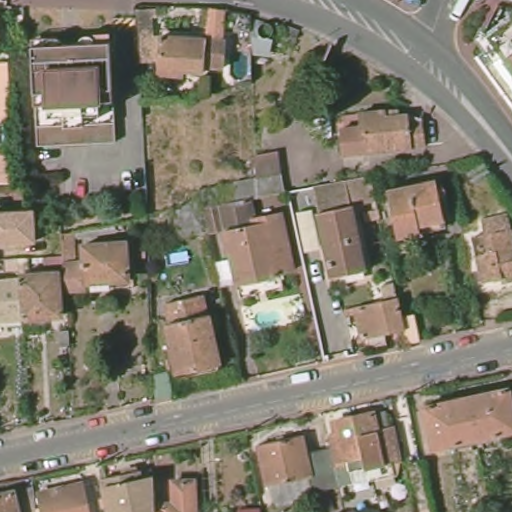pool: (227, 47, 254, 81), (254, 310, 285, 330)
